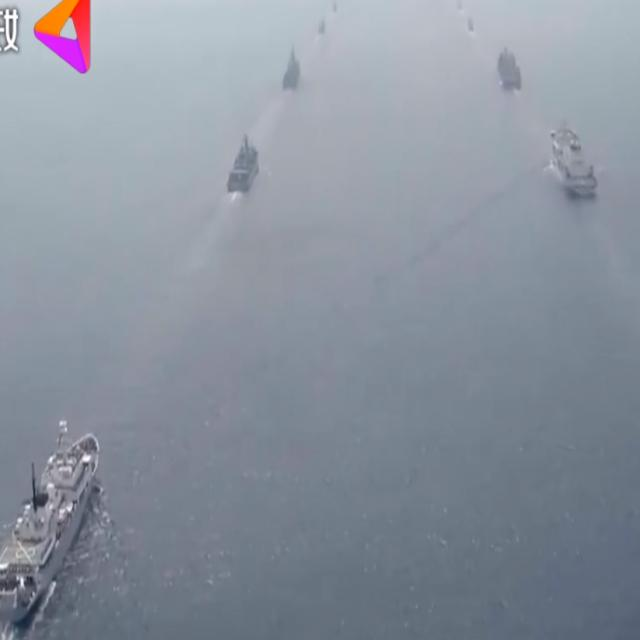navalvessels: (0, 415, 103, 636), (548, 122, 602, 204), (222, 133, 262, 202), (494, 42, 523, 92), (276, 45, 302, 94), (464, 17, 476, 35), (316, 20, 328, 37), (452, 0, 463, 11), (332, 0, 338, 13)
